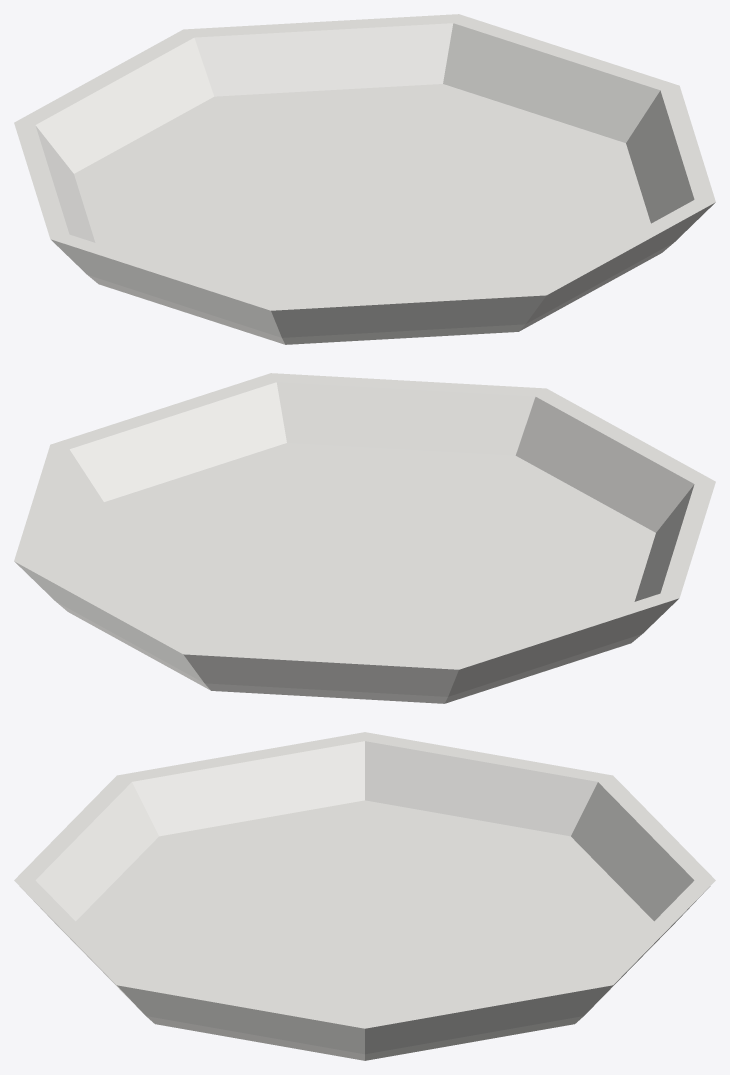
File: Plate.fbx
3 views of the same model, one above another, from view 1: azimuth 30°, elevation 25°; view 2: azimuth 150°, elevation 25°; view 3: azimuth 270°, elevation 25° (orthographic). The views are drawn at different scales.
Parts seen in each view (by area): view 1: pCylinder108; view 2: pCylinder108; view 3: pCylinder108.
Part boxes in pixels (x1=…): pCylinder108: x1=14, y1=14, x2=715, y2=344; pCylinder108: x1=14, y1=373, x2=715, y2=703; pCylinder108: x1=14, y1=732, x2=715, y2=1060.
Size of the model in its own units: 39.21 by 3.39 by 39.21.
